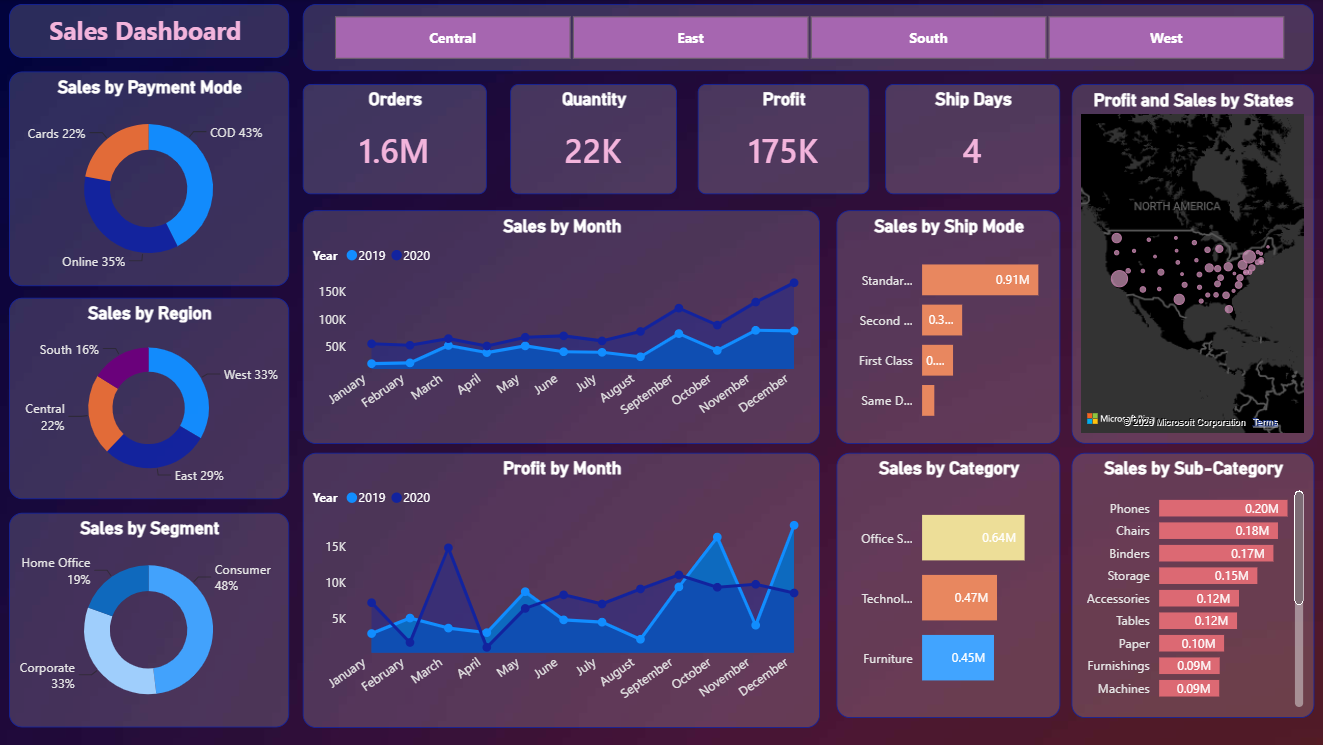

What the dashboard file says about the page in this screenshot:
{"tool":"powerbi","page":{"name":"Sales Dashboard","canvas":[1280,720],"ordinal":0},"visuals":[{"type":"clusteredBarChart","title":"Sales by Category","fields":{"Category":["SuperStore_Sales_Dataset.Category"],"Y":["Sum(SuperStore_Sales_Dataset.Sales)"]},"box":[808.3,437.9,216,255.8],"z":0},{"type":"clusteredBarChart","title":"Sales by Sub-Category","fields":{"Category":["SuperStore_Sales_Dataset.Sub-Category","SuperStore_Sales_Dataset.Category"],"Y":["Sum(SuperStore_Sales_Dataset.Sales)"]},"box":[1035.1,437.9,234,255.8],"z":1000},{"type":"clusteredBarChart","title":"Sales by Ship Mode","fields":{"Category":["SuperStore_Sales_Dataset.Ship Mode"],"Y":["Sum(SuperStore_Sales_Dataset.Sales)"]},"box":[808.3,203.9,216,225.6],"z":2000},{"type":"areaChart","title":"Sales by Month","fields":{"Category":["SuperStore_Sales_Dataset.Order Date.Variation.Date Hierarchy.Month","SuperStore_Sales_Dataset.Order Date.Variation.Date Hierarchy.Day"],"Y":["Sum(SuperStore_Sales_Dataset.Sales)"],"Series":["SuperStore_Sales_Dataset.Order Date.Variation.Date Hierarchy.Year"]},"box":[293.2,203.9,499.5,225.6],"z":3000},{"type":"areaChart","title":" Profit by Month","fields":{"Category":["SuperStore_Sales_Dataset.Order Date.Variation.Date Hierarchy.Month","SuperStore_Sales_Dataset.Order Date.Variation.Date Hierarchy.Day"],"Series":["SuperStore_Sales_Dataset.Order Date.Variation.Date Hierarchy.Year"],"Y":["Sum(SuperStore_Sales_Dataset.Profit)"]},"box":[293.2,437.9,499.5,265.4],"z":4000},{"type":"map","title":"Profit and Sales by States","fields":{"Category":["SuperStore_Sales_Dataset.State"],"Size":["Sum(SuperStore_Sales_Dataset.Sales)"]},"box":[1035.1,82,234,347.5],"z":5000},{"type":"donutChart","title":" Sales by Segment","fields":{"Category":["SuperStore_Sales_Dataset.Segment"],"Y":["Sum(SuperStore_Sales_Dataset.Sales)"]},"box":[9.7,495.8,270.2,207.5],"z":6000},{"type":"donutChart","title":" Sales by Payment Mode","fields":{"Category":["SuperStore_Sales_Dataset.Payment Mode"],"Y":["Sum(SuperStore_Sales_Dataset.Sales)"]},"box":[9.7,70,270.2,207.5],"z":7000},{"type":"donutChart","title":"Sales by Region","fields":{"Category":["SuperStore_Sales_Dataset.Region"],"Y":["Sum(SuperStore_Sales_Dataset.Sales)"]},"box":[9.7,288.3,270.2,194.2],"z":8000},{"type":"slicer","fields":{"Values":["SuperStore_Sales_Dataset.Region"]},"box":[293.2,4.8,976,65.1],"z":9000},{"type":"textbox","box":[9.7,4.8,270.2,51.9],"z":10000},{"type":"cardVisual","title":"Orders","fields":{"Data":["Sum(SuperStore_Sales_Dataset.Sales)"]},"box":[293.2,82,177.3,106.2],"z":11000},{"type":"cardVisual","title":"Quantity","fields":{"Data":["Sum(SuperStore_Sales_Dataset.Quantity)"]},"box":[493.4,82,160.5,106.2],"z":12000},{"type":"cardVisual","title":"Profit","fields":{"Data":["Sum(SuperStore_Sales_Dataset.Profit)"]},"box":[674.4,82,165.3,106.2],"z":13000},{"type":"cardVisual","title":"Ship Days","fields":{"Data":["Avg(SuperStore_Sales_Dataset.ColumnAvegDel)"]},"box":[855.4,82,168.9,106.2],"z":14000}]}

Visuals, with their boxes in screenshot pixels (x1, y1, x2, y2), scaled from the page's 1280x720 canvas onto the 1323x745 screenshot:
"Sales by Category" clusteredBarChart: {"x1": 835, "y1": 453, "x2": 1059, "y2": 718}
"Sales by Sub-Category" clusteredBarChart: {"x1": 1070, "y1": 453, "x2": 1312, "y2": 718}
"Sales by Ship Mode" clusteredBarChart: {"x1": 835, "y1": 211, "x2": 1059, "y2": 444}
"Sales by Month" areaChart: {"x1": 303, "y1": 211, "x2": 819, "y2": 444}
" Profit by Month" areaChart: {"x1": 303, "y1": 453, "x2": 819, "y2": 728}
"Profit and Sales by States" map: {"x1": 1070, "y1": 85, "x2": 1312, "y2": 444}
" Sales by Segment" donutChart: {"x1": 10, "y1": 513, "x2": 289, "y2": 728}
" Sales by Payment Mode" donutChart: {"x1": 10, "y1": 72, "x2": 289, "y2": 287}
"Sales by Region" donutChart: {"x1": 10, "y1": 298, "x2": 289, "y2": 499}
slicer - SuperStore_Sales_Dataset.Region: {"x1": 303, "y1": 5, "x2": 1312, "y2": 72}
textbox: {"x1": 10, "y1": 5, "x2": 289, "y2": 59}
"Orders" cardVisual: {"x1": 303, "y1": 85, "x2": 486, "y2": 195}
"Quantity" cardVisual: {"x1": 510, "y1": 85, "x2": 676, "y2": 195}
"Profit" cardVisual: {"x1": 697, "y1": 85, "x2": 868, "y2": 195}
"Ship Days" cardVisual: {"x1": 884, "y1": 85, "x2": 1059, "y2": 195}
